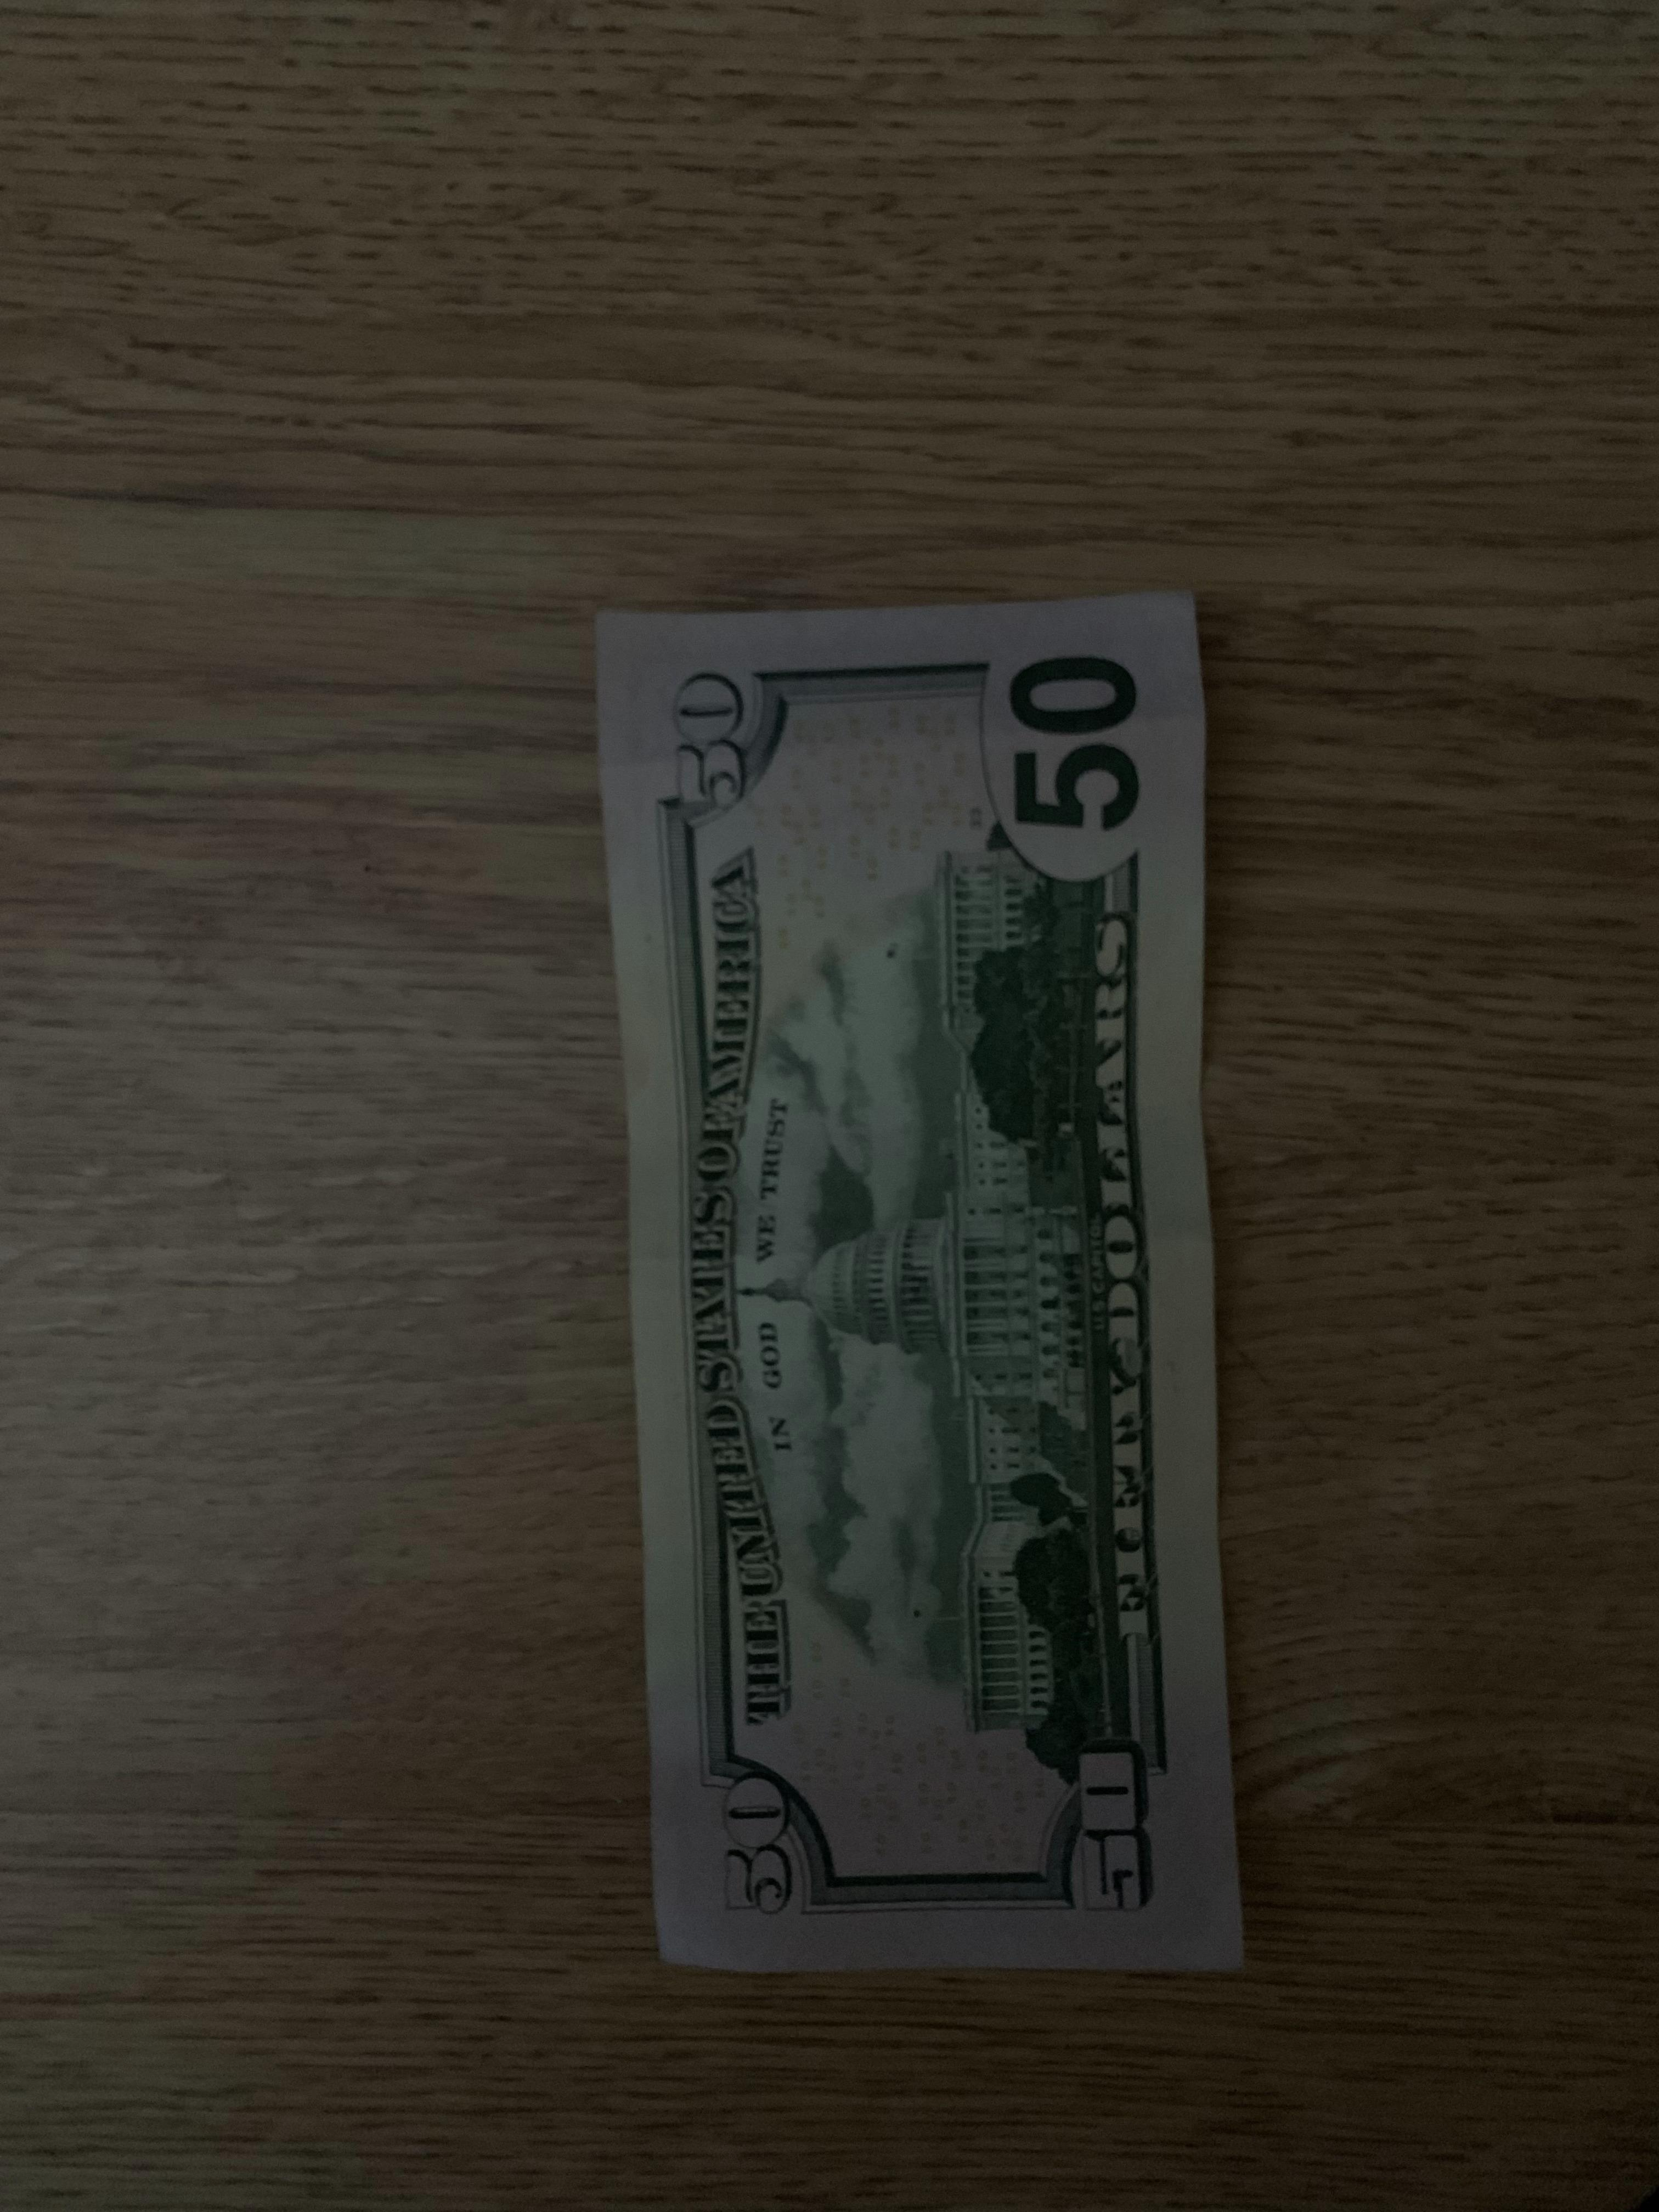FiftyBill: (568, 594, 1276, 1993)
